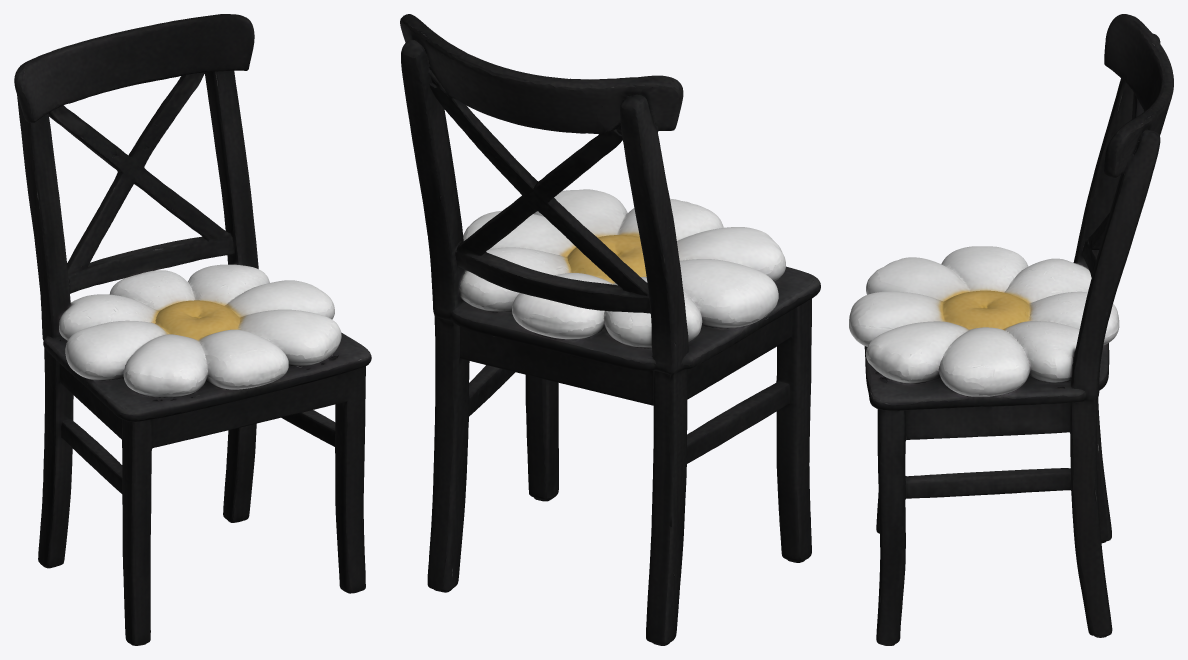
The model's file is item_cb6a0f0a.glb.
The picture shows the model from 3 angles, left to right: view 1: azimuth 30°, elevation 25°; view 2: azimuth 150°, elevation 25°; view 3: azimuth 270°, elevation 25°; orthographic projection. The views are drawn at different scales.
Visible parts, largest first — view 1: world; view 2: world; view 3: world.
Boxes of the visible parts, bbox=[...] form: world: bbox=[14, 14, 371, 645]; world: bbox=[400, 14, 820, 645]; world: bbox=[849, 14, 1173, 645].
Size of the model in its own units: 0.4605 by 0.85 by 0.4826.
1 material, 1 textured.
